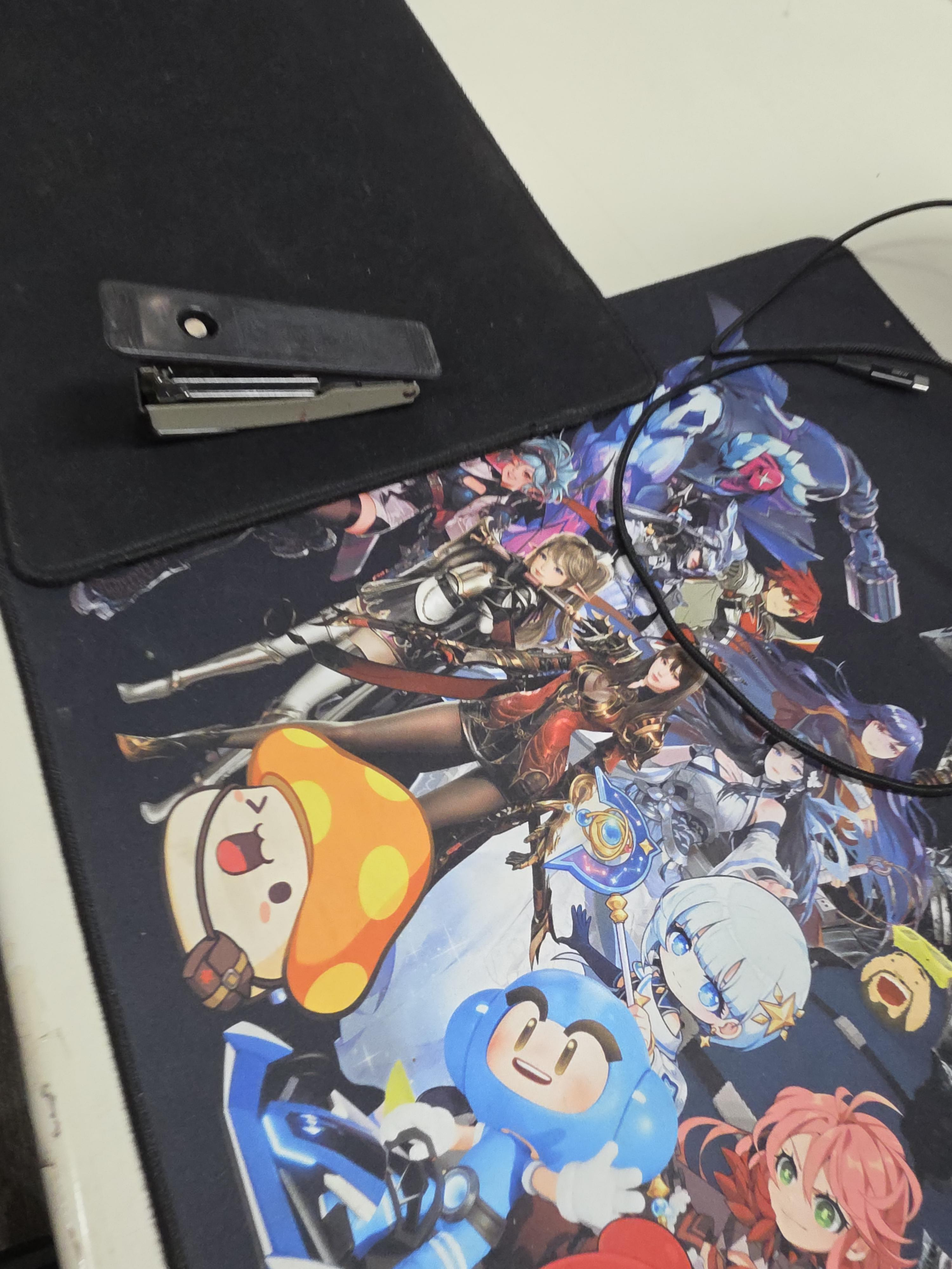stapler: (97, 278, 443, 439)
